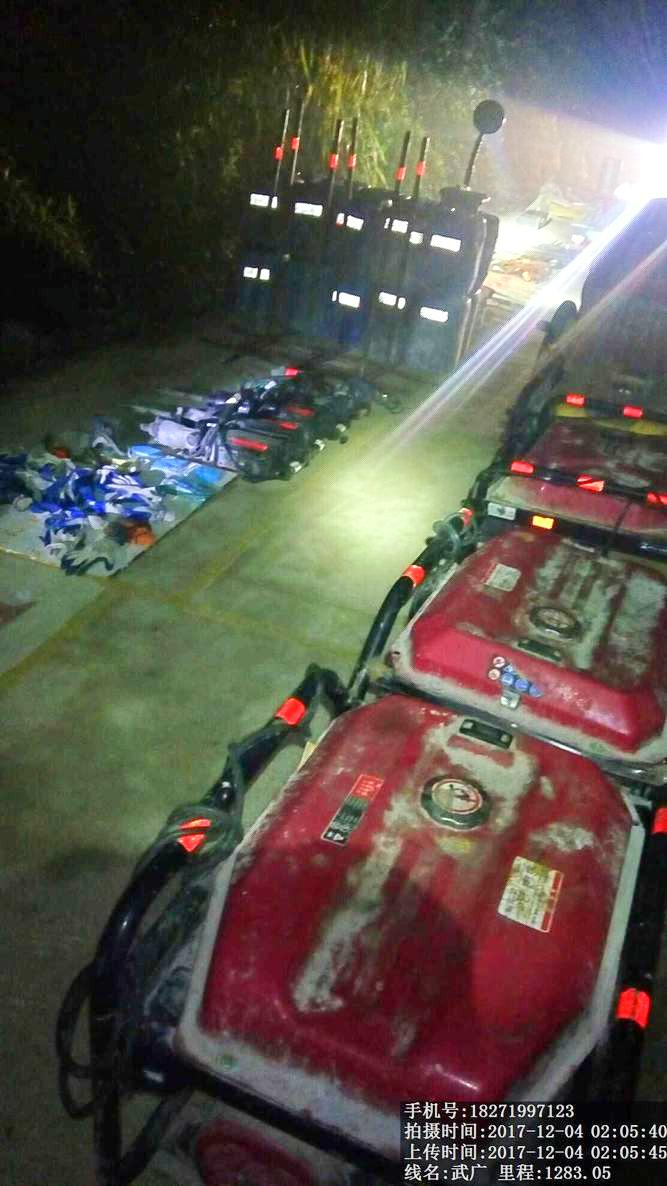DJ: (97, 669, 643, 1115)
